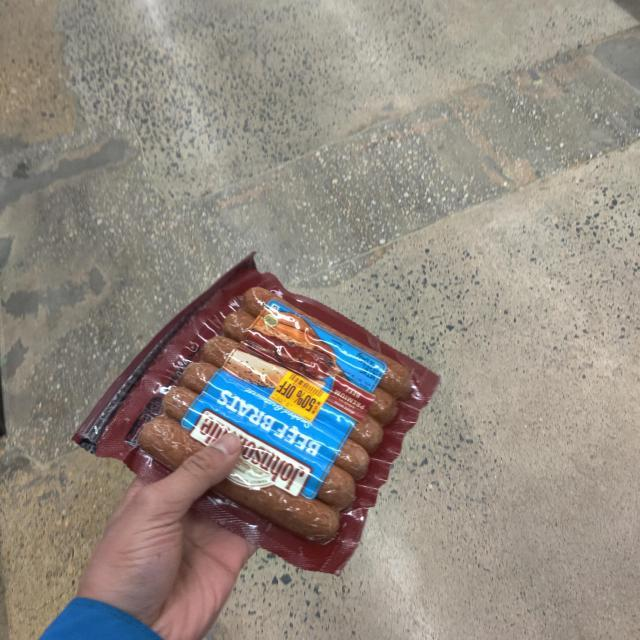Meat: (70, 254, 440, 577)
